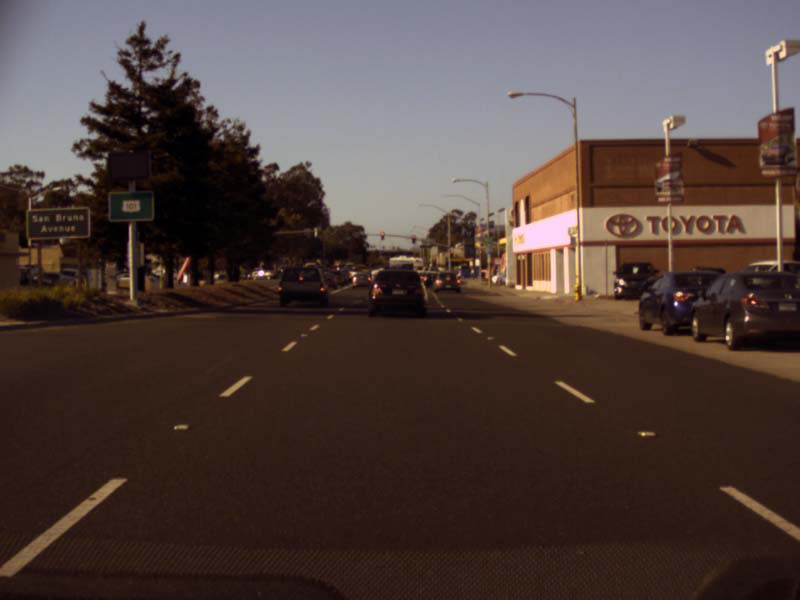Yellow: (380, 230, 385, 241), (411, 234, 416, 243)
